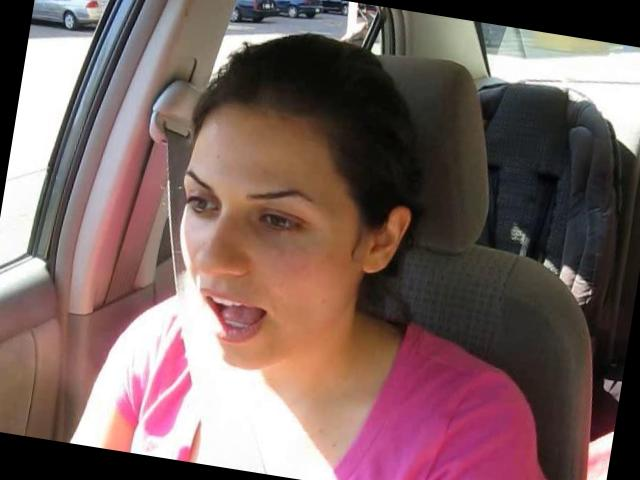eye_open: (253, 206, 310, 243), (183, 188, 221, 222)
face: (150, 147, 348, 385)
mouth_open: (186, 280, 280, 351)
